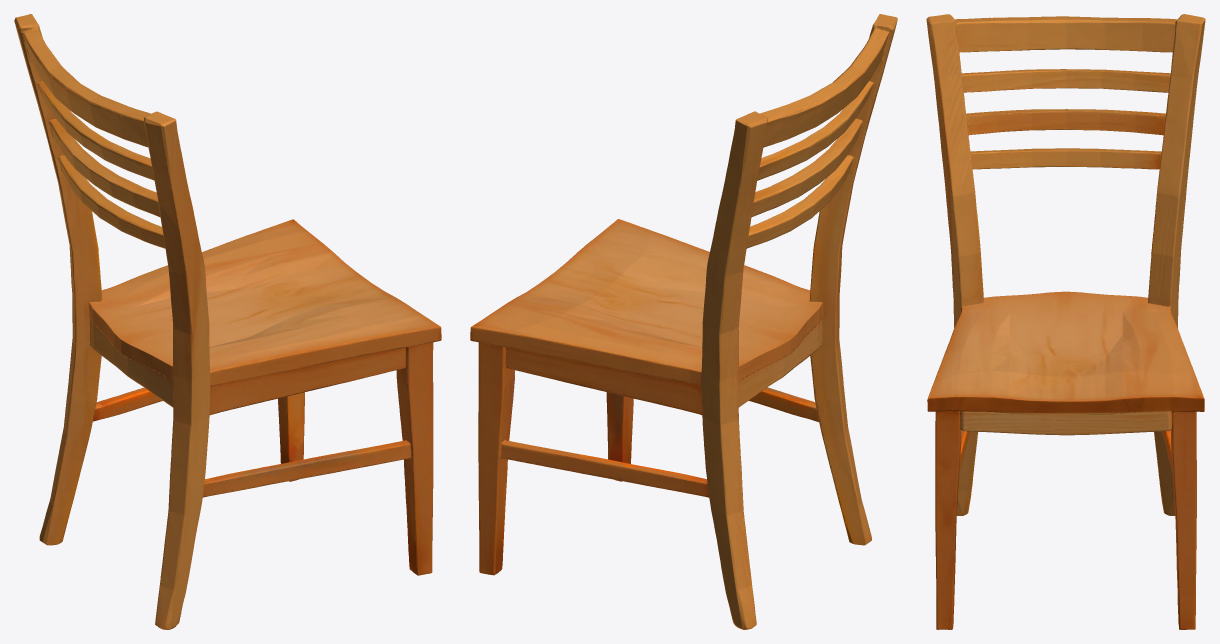
File: chair2.glb
3 views of the same model, side by side, from view 1: azimuth 30°, elevation 25°; view 2: azimuth 150°, elevation 25°; view 3: azimuth 270°, elevation 25° (orthographic). The views are drawn at different scales.
Visible parts, largest first — view 1: tripo_node_9079c025-b839-42d3-b57d-dcefcd896f1c; view 2: tripo_node_9079c025-b839-42d3-b57d-dcefcd896f1c; view 3: tripo_node_9079c025-b839-42d3-b57d-dcefcd896f1c.
Part boxes in pixels (x1=…): tripo_node_9079c025-b839-42d3-b57d-dcefcd896f1c: x1=14, y1=14, x2=441, y2=629; tripo_node_9079c025-b839-42d3-b57d-dcefcd896f1c: x1=470, y1=14, x2=897, y2=629; tripo_node_9079c025-b839-42d3-b57d-dcefcd896f1c: x1=926, y1=14, x2=1205, y2=629.
Bounding box in the file's own units: 0.6089 × 1 × 0.518.
1 material, 1 textured.
